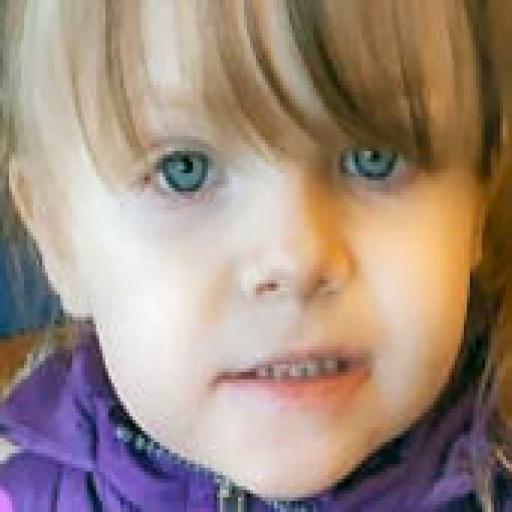Autism: (4, 6, 512, 495)
